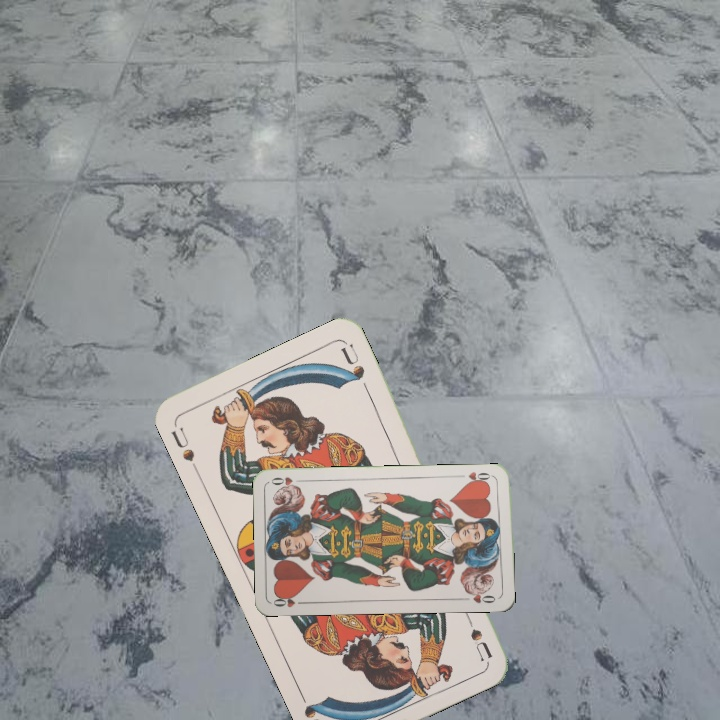HO: (456, 468, 496, 487), (270, 591, 310, 610)
SU: (459, 605, 496, 663), (167, 422, 197, 464)
